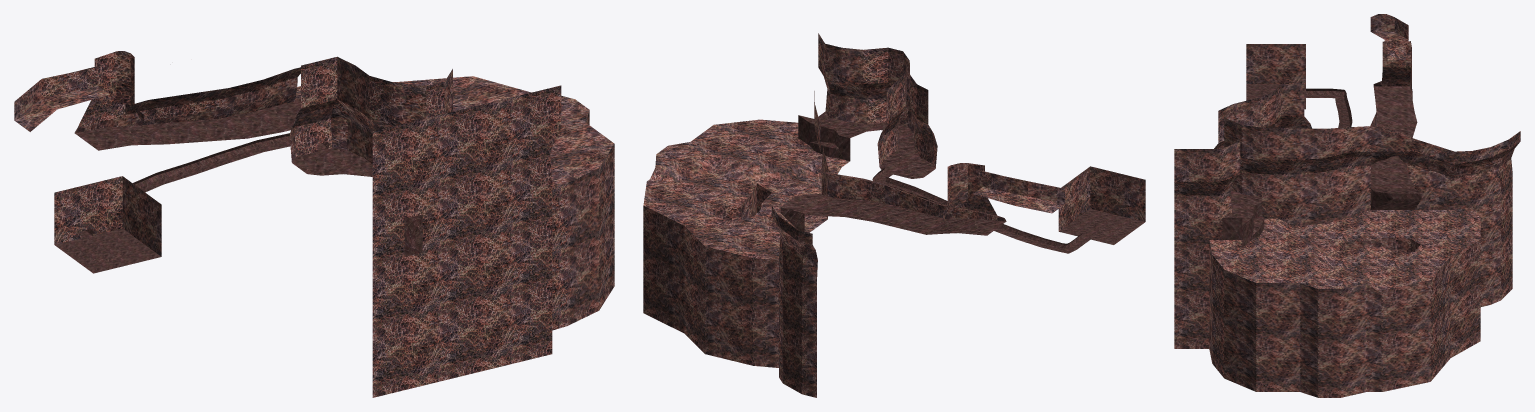
The model's file is ba_xen1.gltf.
3 views of the same model, side by side, from view 1: azimuth 30°, elevation 25°; view 2: azimuth 150°, elevation 25°; view 3: azimuth 270°, elevation 25° (orthographic). The views are drawn at different scales.
Visible parts, largest first — view 1: maps/ba_xen1.bsp; view 2: maps/ba_xen1.bsp; view 3: maps/ba_xen1.bsp.
Boxes of the visible parts, x1,y1,x2,y2 form: maps/ba_xen1.bsp: [14, 51, 614, 397]; maps/ba_xen1.bsp: [643, 33, 1145, 397]; maps/ba_xen1.bsp: [1174, 14, 1520, 397].
Size of the model in its own units: 95.6 by 44.8 by 69.2.
Materials: 2 (2 with a texture image).
